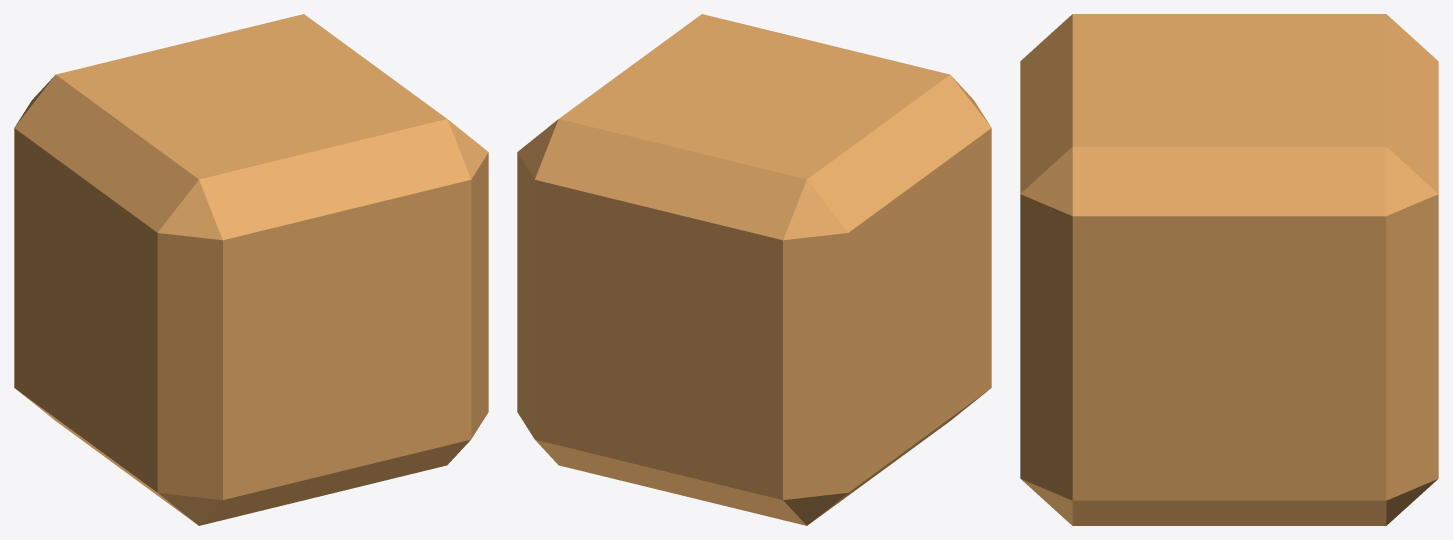
Rendered from Orange.fbx.
3 views of the same model, side by side, from view 1: azimuth 30°, elevation 25°; view 2: azimuth 150°, elevation 25°; view 3: azimuth 270°, elevation 25° (orthographic). The views are drawn at different scales.
Visible parts, largest first — view 1: Orange.001; view 2: Orange.001; view 3: Orange.001.
Boxes of the visible parts, left/top/right/bottom form: Orange.001: left=14, top=14, right=488, bottom=525; Orange.001: left=517, top=14, right=991, bottom=525; Orange.001: left=1020, top=14, right=1438, bottom=525.
Bounding box in the file's own units: 200 × 200 × 200.
